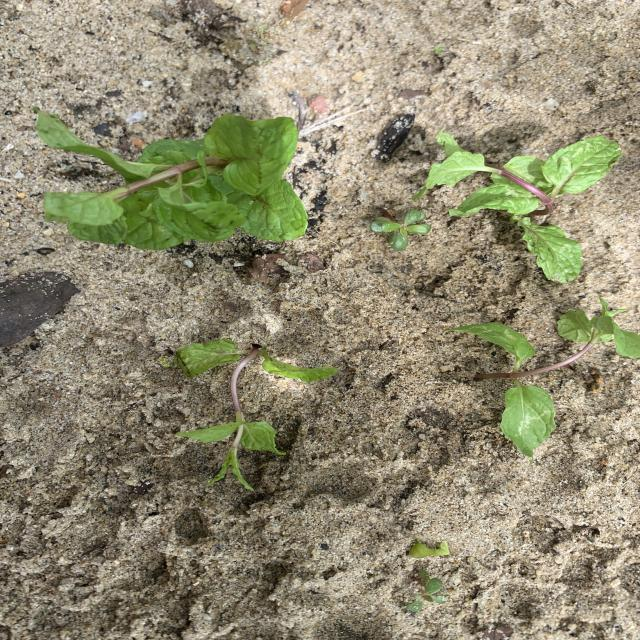crop: (34, 107, 307, 250), (412, 131, 621, 283), (453, 299, 640, 456), (173, 340, 337, 490)
weed: (371, 209, 431, 251), (406, 570, 447, 615)
